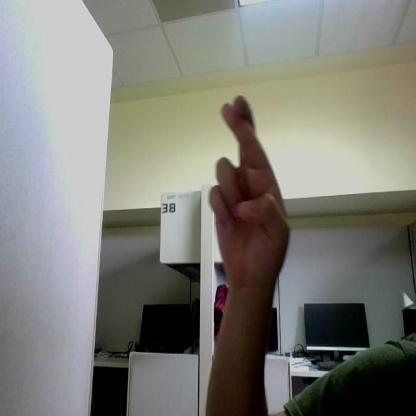R: (210, 96, 289, 285)
